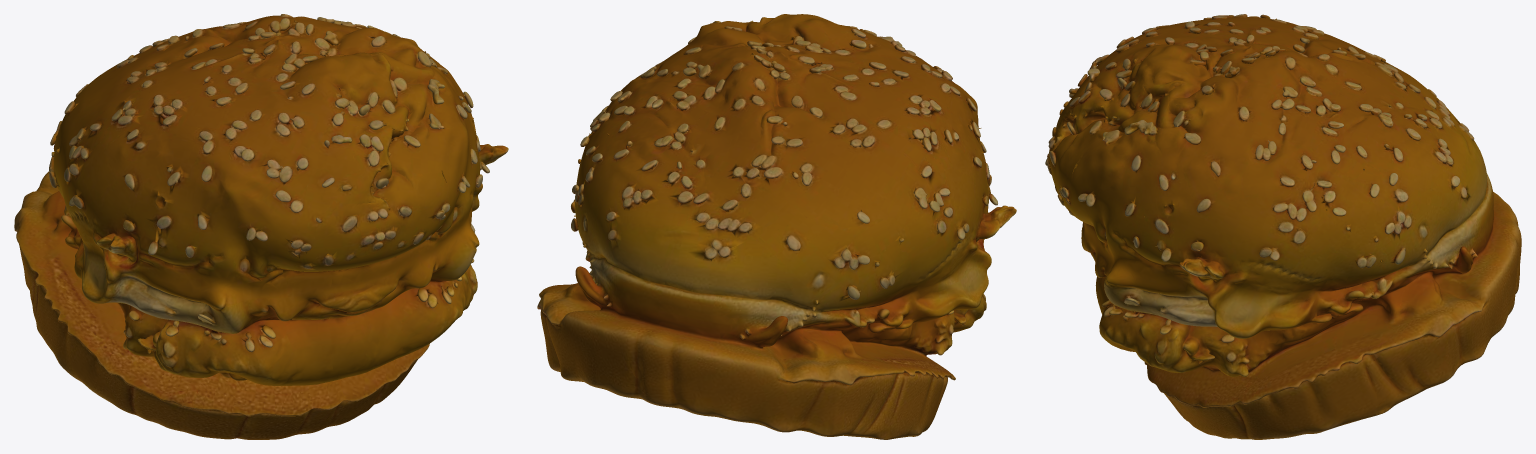
The model's file is beef-burger.glb.
3 views of the same model, side by side, from view 1: azimuth 30°, elevation 25°; view 2: azimuth 150°, elevation 25°; view 3: azimuth 270°, elevation 25° (orthographic). The views are drawn at different scales.
Parts seen in each view (by area): view 1: tripo_node_f7e079c1-e13c-4194-9186-3c1cd950de70; view 2: tripo_node_f7e079c1-e13c-4194-9186-3c1cd950de70; view 3: tripo_node_f7e079c1-e13c-4194-9186-3c1cd950de70.
Part boxes in pixels (left/top/right/bottom): tripo_node_f7e079c1-e13c-4194-9186-3c1cd950de70: left=14, top=14, right=508, bottom=439; tripo_node_f7e079c1-e13c-4194-9186-3c1cd950de70: left=537, top=14, right=1016, bottom=439; tripo_node_f7e079c1-e13c-4194-9186-3c1cd950de70: left=1045, top=14, right=1521, bottom=439.
Bounding box in the file's own units: 0.1109 × 0.0994 × 0.12.
1 material, 1 textured.
